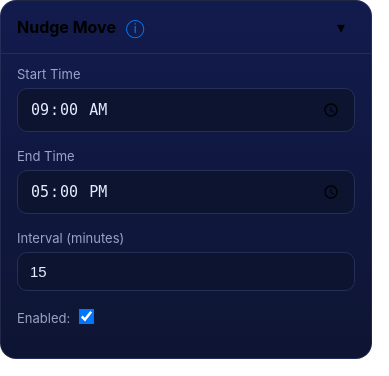
NudgeMoveCard › Interactions › dynamically disables/enables time and interval fields when the enabled checkbox is toggled
Expected: the time field below "Start Time" is enabled, [17,88,355,132]
Expected: the time field below "End Time" is enabled, [17,170,355,214]
Click the checkbox labelled "Enabled:". click: (87, 316)
box: [79,308,94,324]
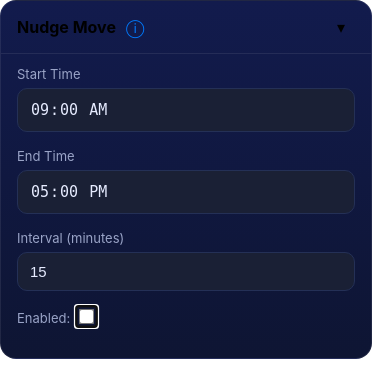
Expected: the number field is disabled, [17,252,355,290]
Result: the time field below "Start Time" is disabled at [17,88,355,132]
Result: the time field below "End Time" is disabled at [17,170,355,214]
